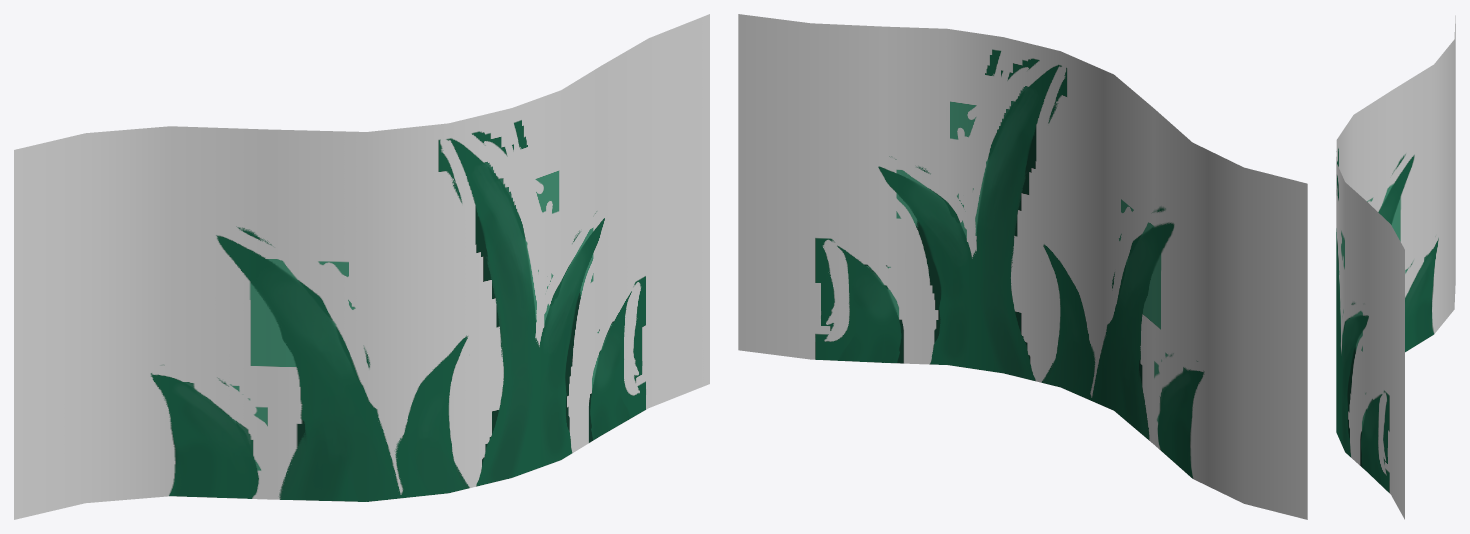
File: grass_plain1.fbx
3 renders of one model, left to right at view 1: azimuth 30°, elevation 25°; view 2: azimuth 150°, elevation 25°; view 3: azimuth 270°, elevation 25°, orthographic. The views are drawn at different scales.
Visible parts, largest first — view 1: pPlane1; view 2: pPlane1; view 3: pPlane1.
Boxes of the visible parts, x1,y1,x2,y2 form: pPlane1: [14, 14, 709, 519]; pPlane1: [738, 14, 1307, 519]; pPlane1: [1336, 15, 1455, 519].
Size of the model in its own units: 93.49 by 50 by 19.97.
